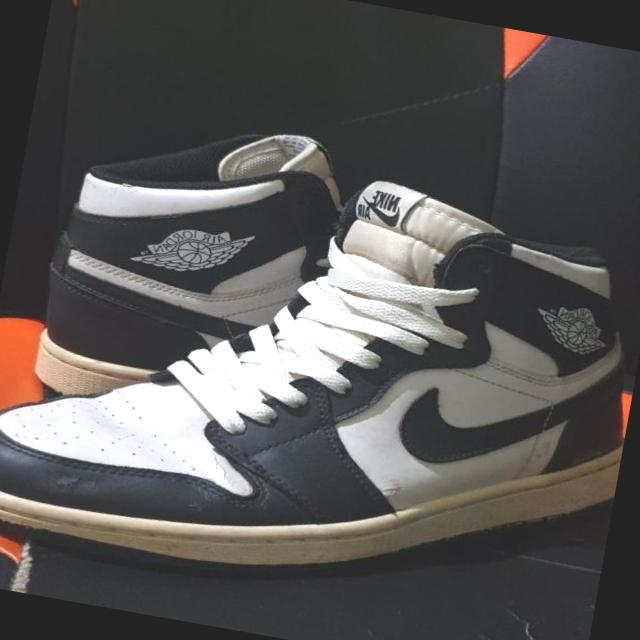nike_fake_jordan: (0, 117, 640, 640), (28, 96, 363, 443)
